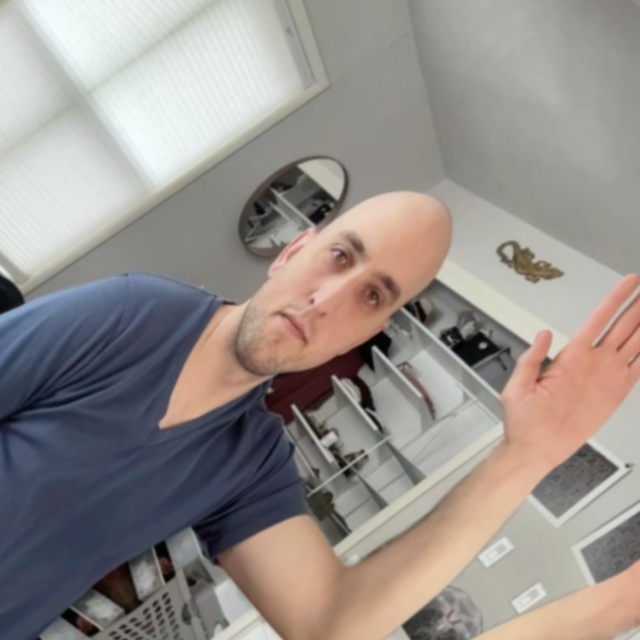Paper: (461, 244, 640, 485)
